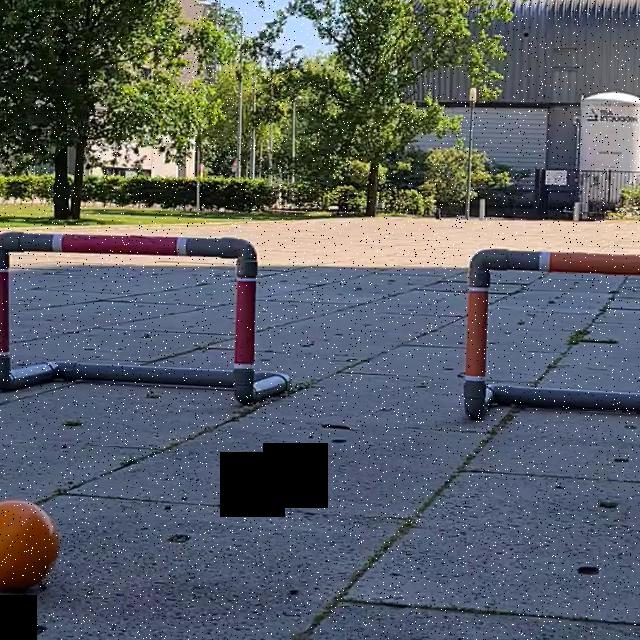ball: (0, 495, 63, 598)
